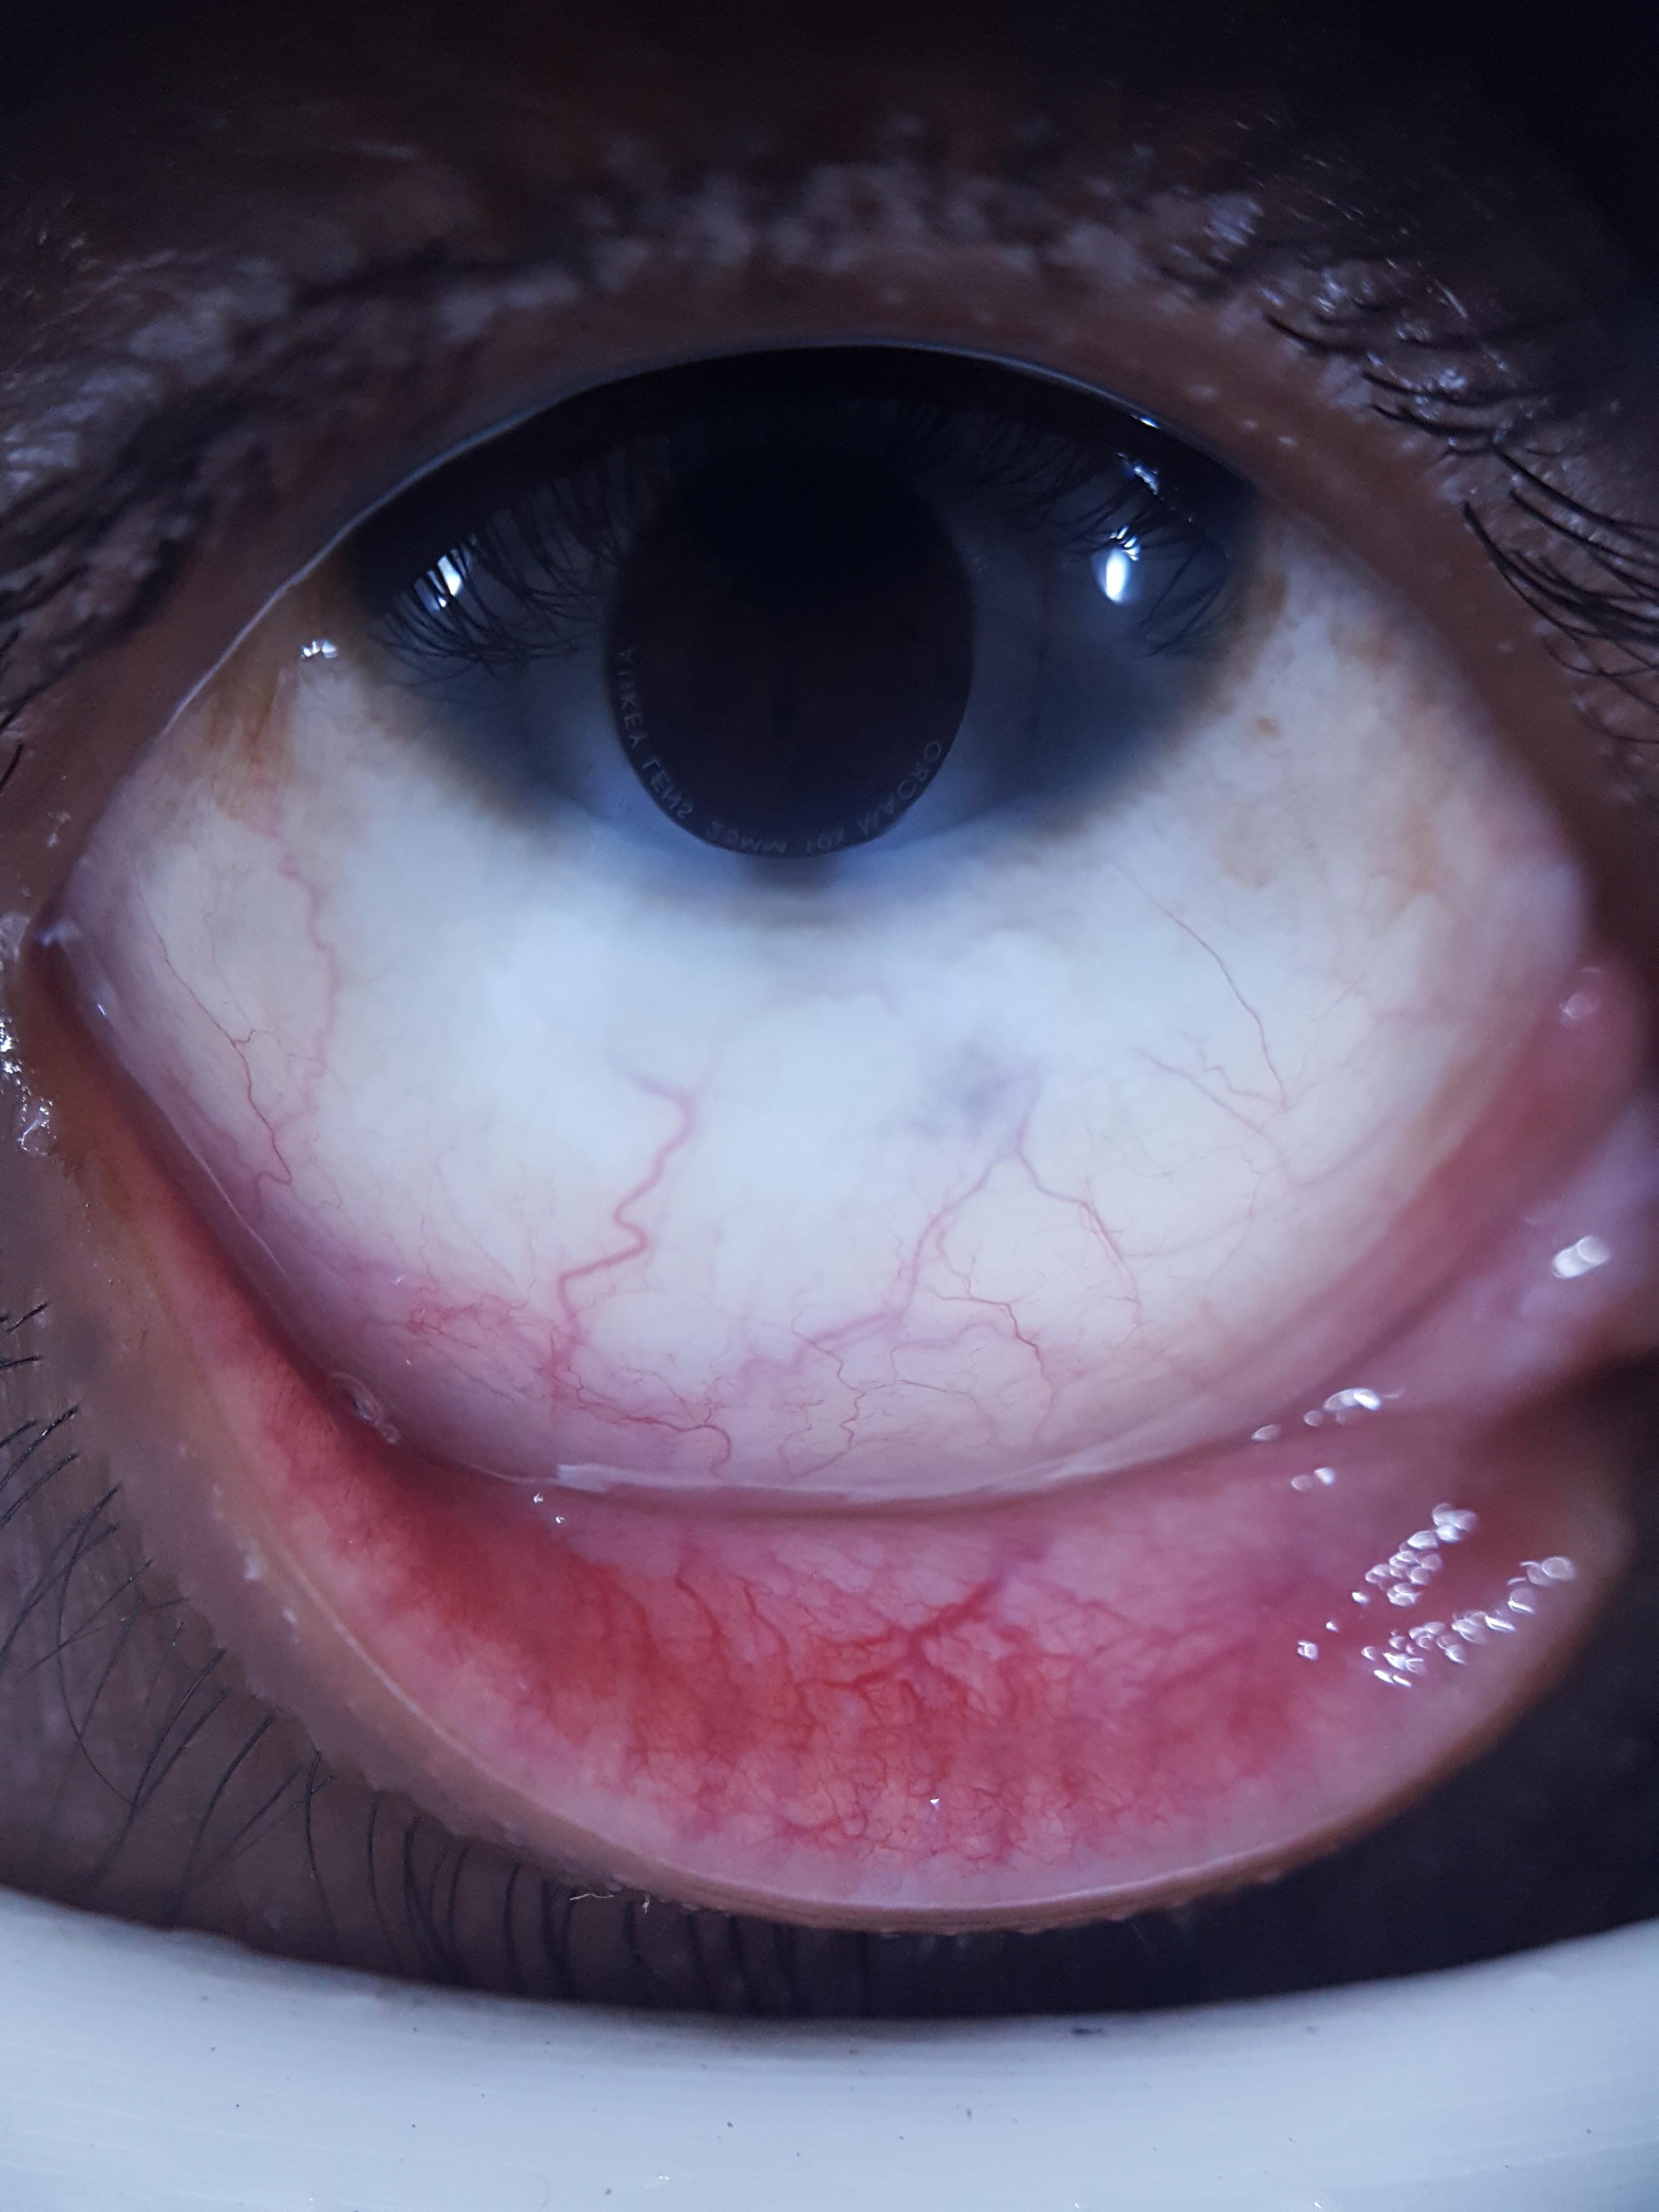forniceal: (514, 1075, 1659, 1658)
forniceal_palpebral: (190, 1068, 1659, 1851)
palpebral: (197, 1235, 1540, 1829)
